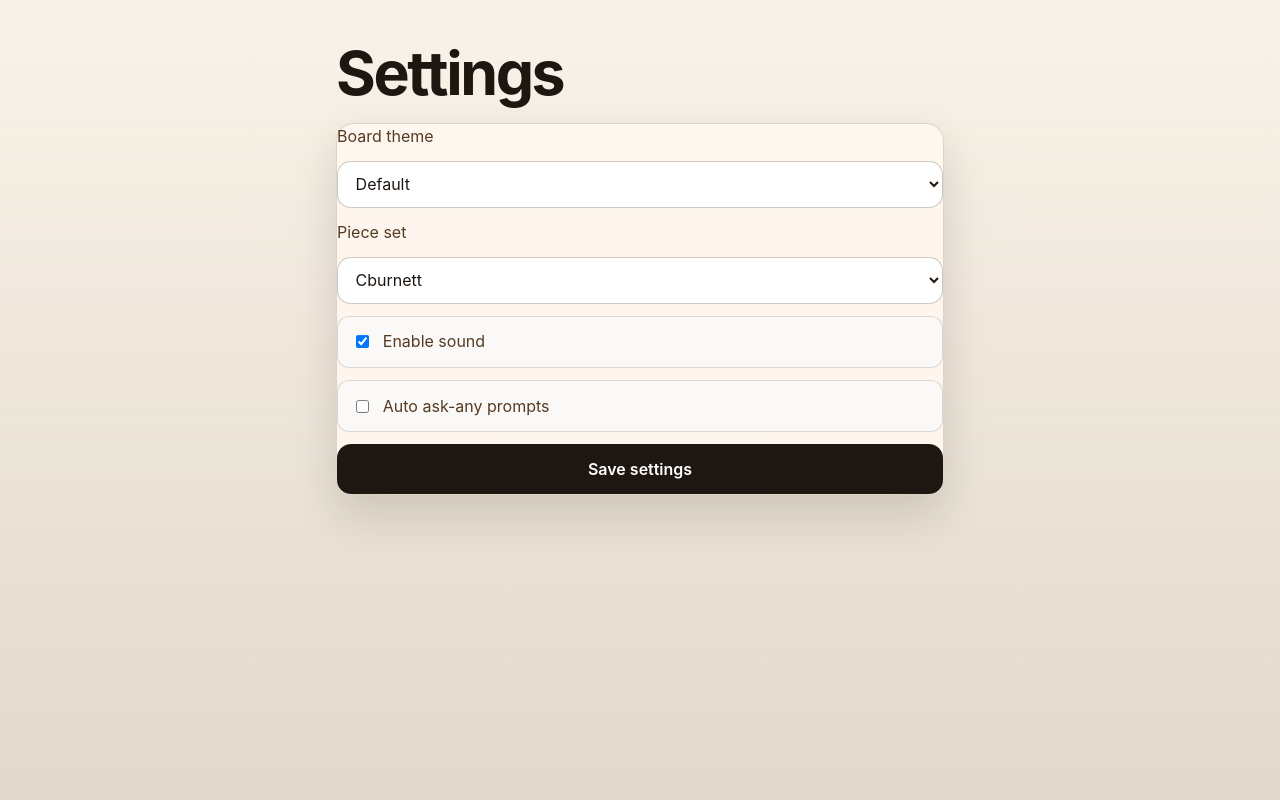
Scenario: SettingsPage › falls_back_to_default_settings_when_the_server_returns_no_saved_payload
Select "Wood" in the dropdown labelled "Board theme" at (640, 184), box x1=337 y1=161 x2=943 y2=208
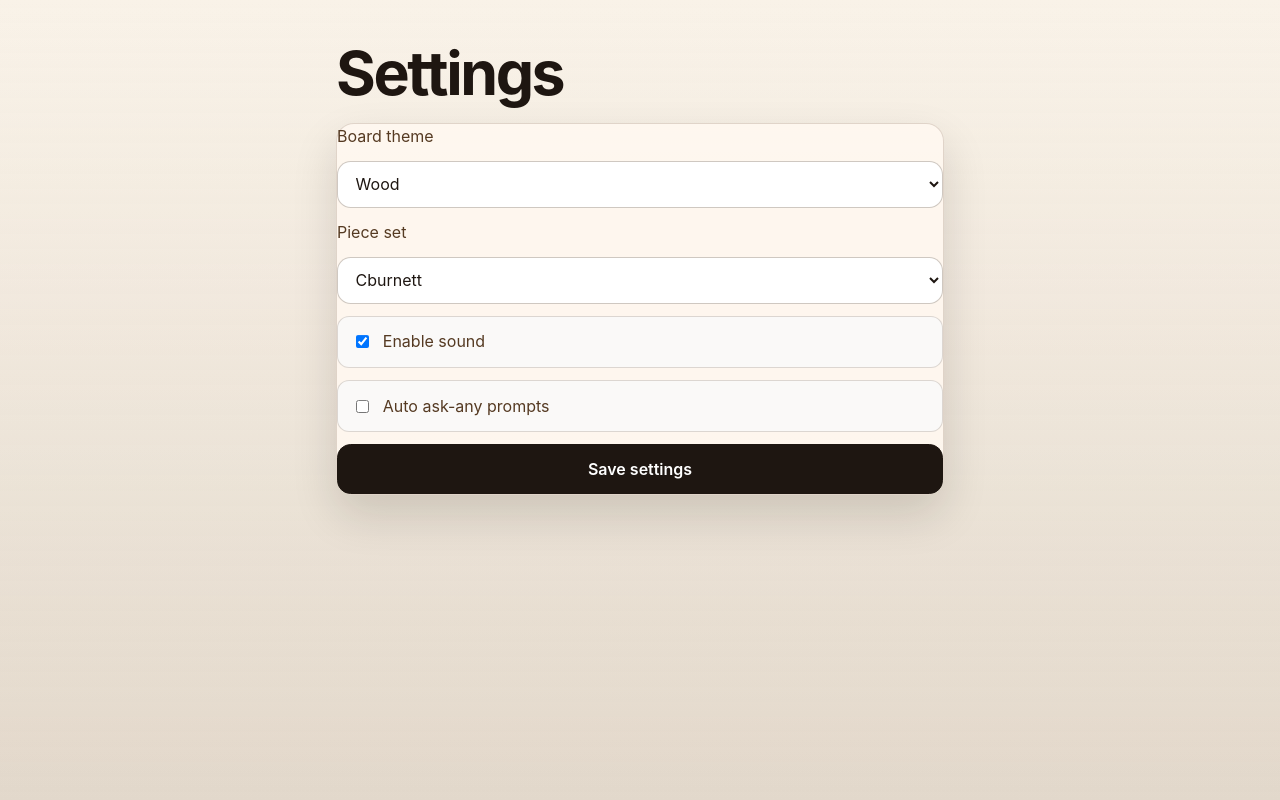
Click the button "Save settings" at (640, 469), box x1=337 y1=444 x2=943 y2=494
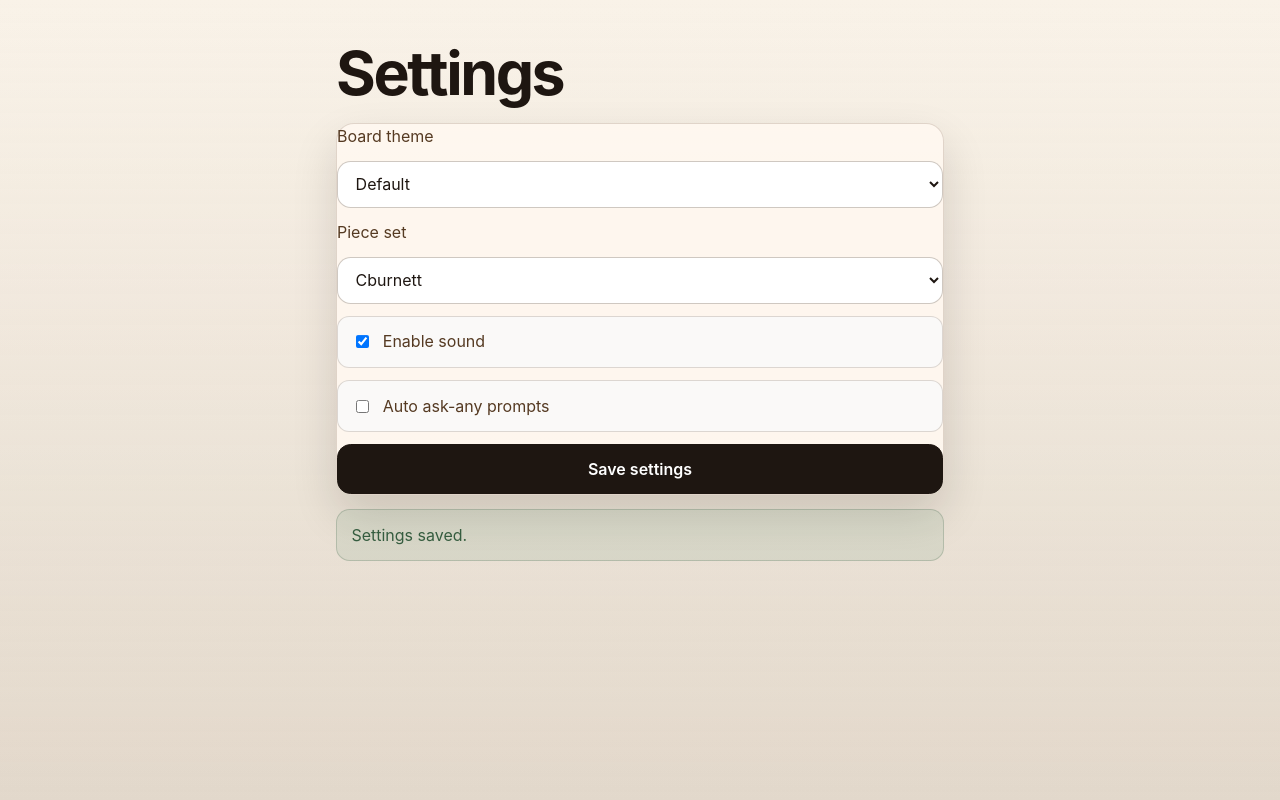
Expected: the dropdown labelled "Piece set" shows "Cburnett", x1=337 y1=256 x2=943 y2=304
Expected: the message reads "Settings saved.", x1=351 y1=524 x2=467 y2=544
